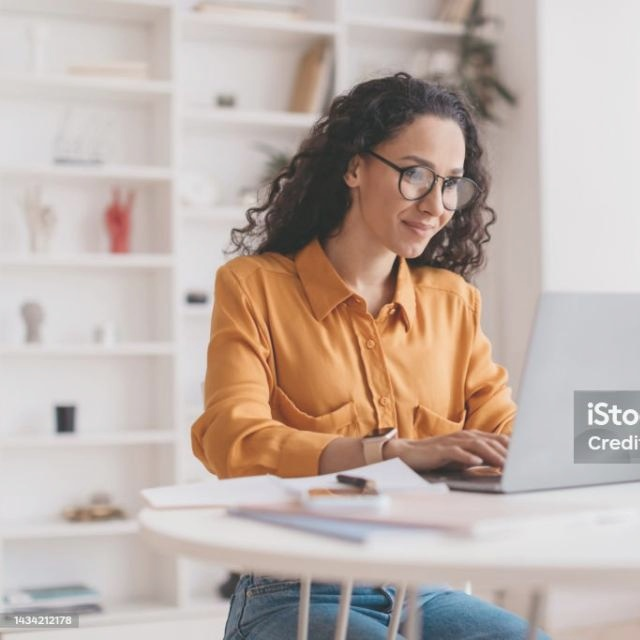Sin_Casco_Mascarrilla: (330, 72, 474, 260)
